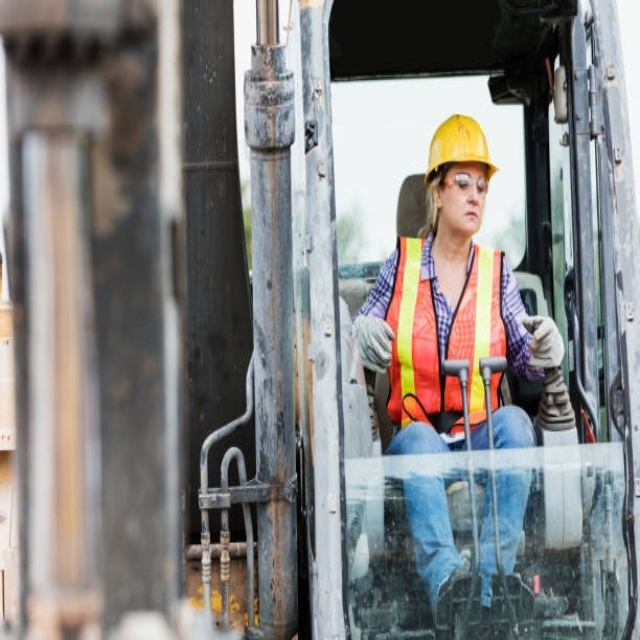Gafas: (444, 172, 489, 195)
Guantes: (350, 309, 395, 376), (520, 309, 567, 370)
Sin_mascara: (455, 202, 484, 231)
